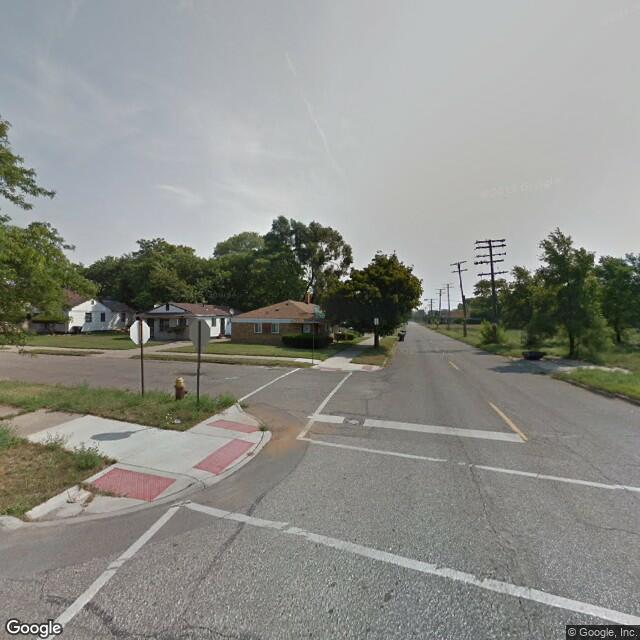litter: (173, 416, 183, 427)
